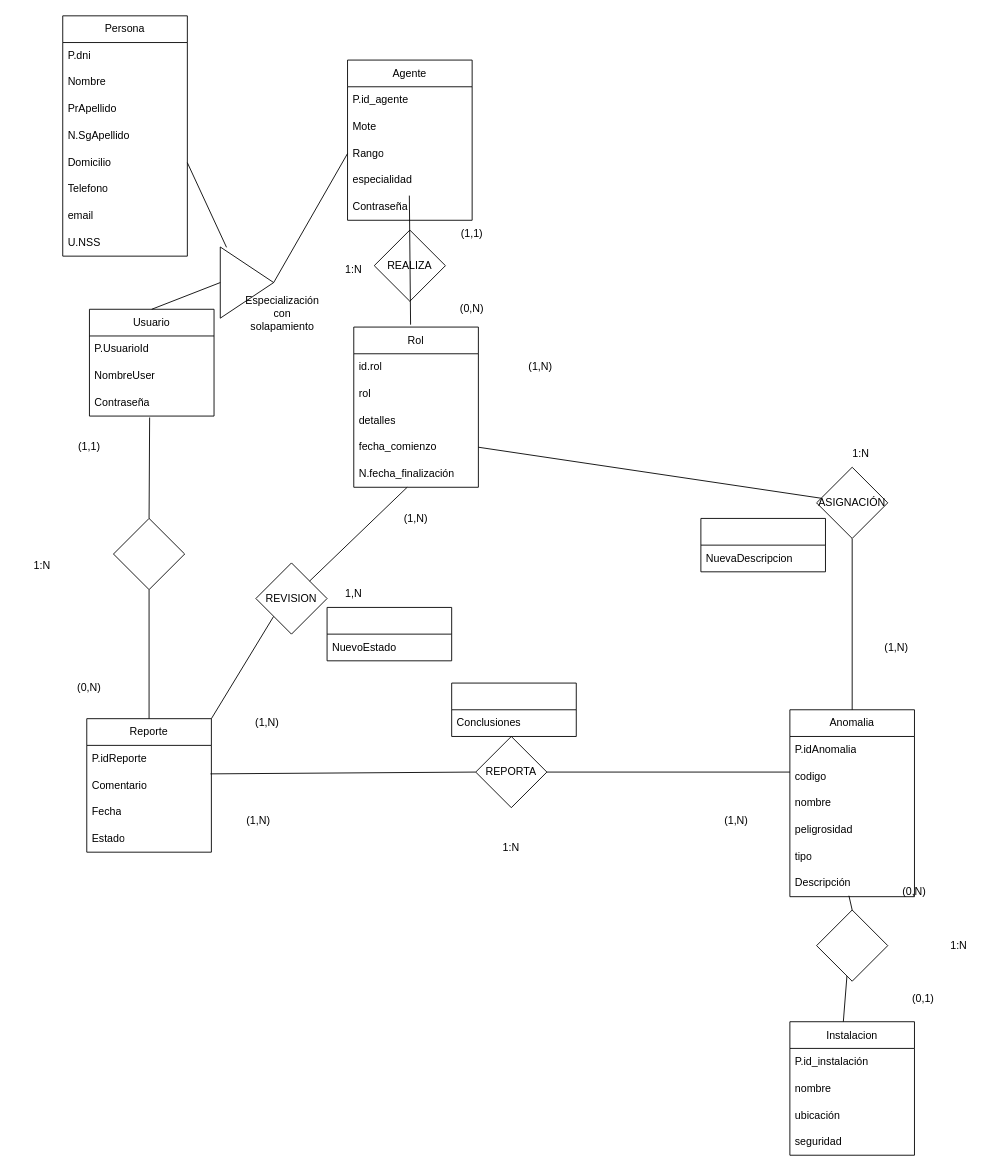
This 1000x1171 diagram has some shape labels left out. The box of each missing label's shape, as (x1, y1, x2, y2) in pixels:
ES_UN: (219, 246, 274, 318)
ESCRIBE: (113, 518, 185, 590)
PERTENECE: (816, 909, 888, 981)
ReportaAnomalia: (451, 682, 576, 736)
RolAsignacion: (700, 518, 825, 572)
RolRevision: (326, 607, 452, 661)
